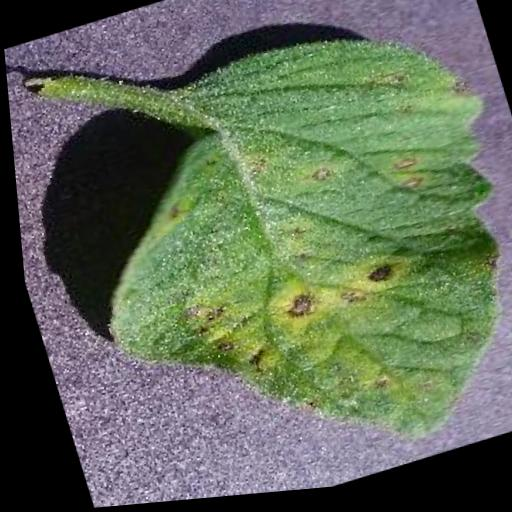Septoria: (29, 0, 512, 510)
